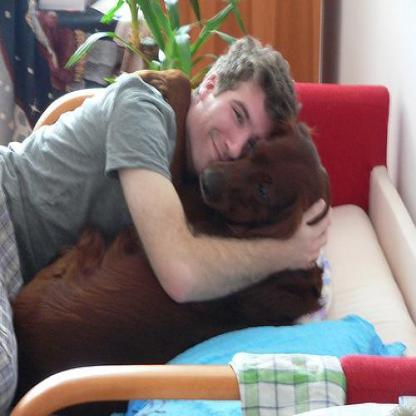Irish_setter: (14, 66, 332, 414)
